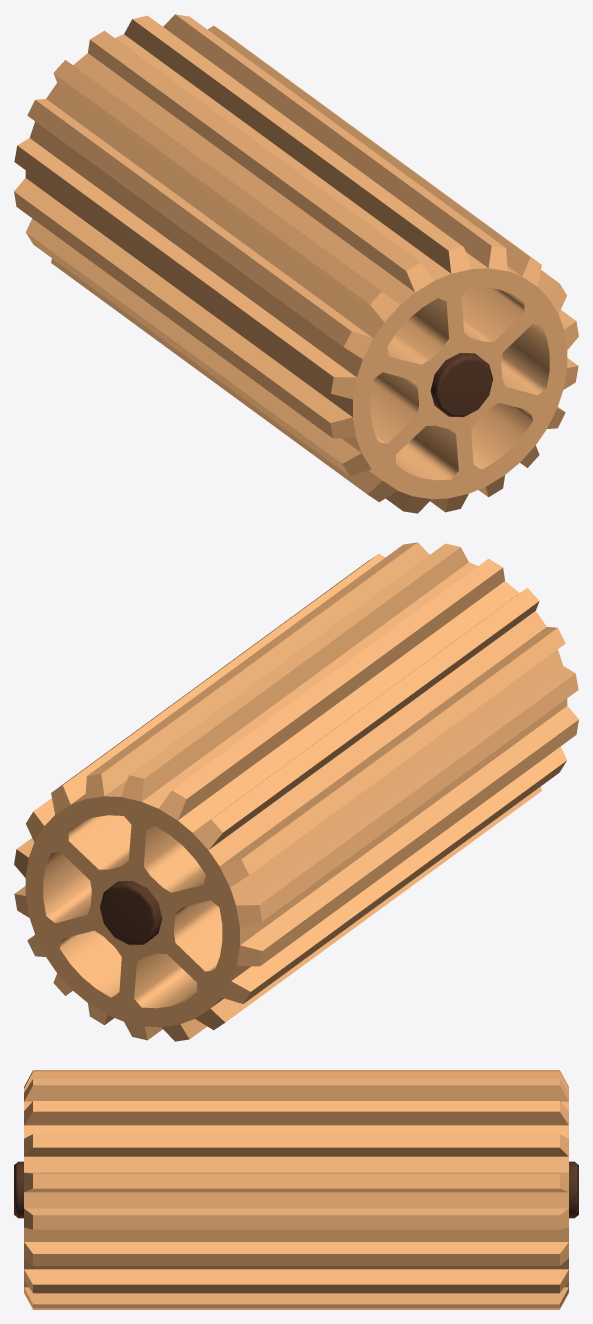
File: box_6_gear_003.fbx
3 renders of one model, top to bottom at view 1: azimuth 30°, elevation 25°; view 2: azimuth 150°, elevation 25°; view 3: azimuth 270°, elevation 25°, orthographic. The views are drawn at different scales.
Visible parts, largest first — view 1: box_6_gear_003; view 2: box_6_gear_003; view 3: box_6_gear_003.
Boxes of the visible parts, x1,y1,x2,y2 form: box_6_gear_003: [14, 14, 578, 513]; box_6_gear_003: [14, 542, 578, 1041]; box_6_gear_003: [14, 1070, 578, 1309].
Bounding box in the file's own units: 149 × 352 × 149.
